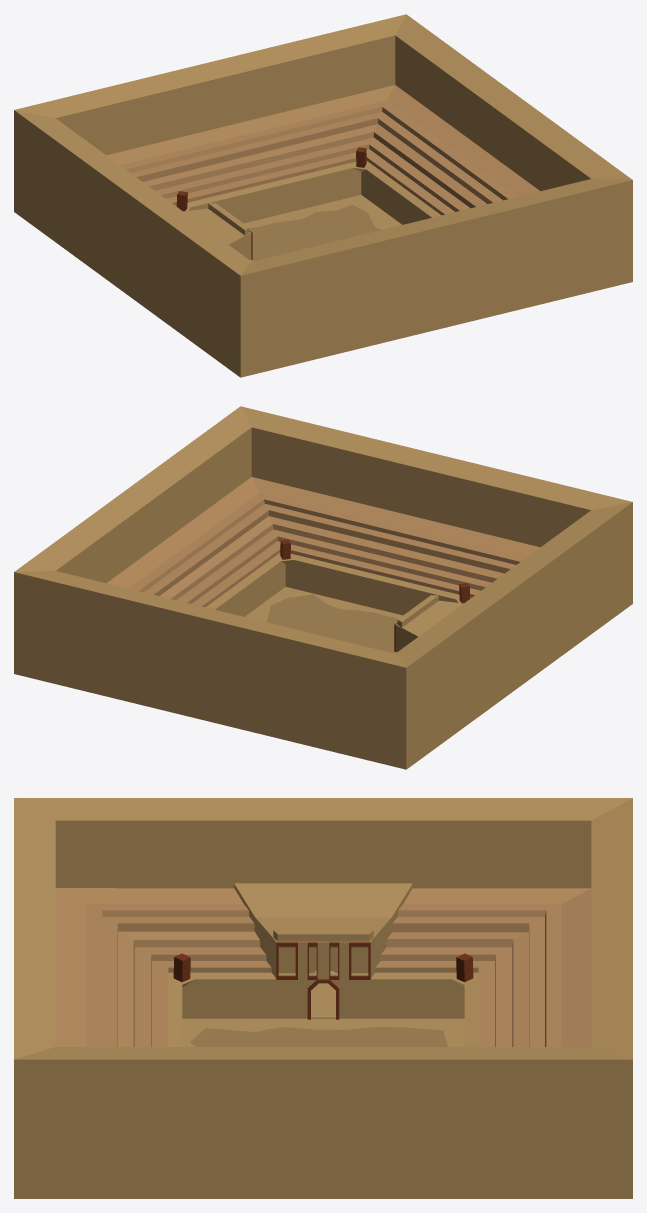
File: arena.fbx
The picture shows the model from 3 angles, top to bottom: view 1: azimuth 30°, elevation 25°; view 2: azimuth 150°, elevation 25°; view 3: azimuth 270°, elevation 25°; orthographic projection. The views are drawn at different scales.
Parts seen in each view (by area): view 1: Arena, Ranks, Ground; view 2: Arena, Ranks, Ground; view 3: Arena, Ranks, Ground.
Part boxes in pixels (x1=…): Arena: x1=14, y1=14, x2=632, y2=377; Ranks: x1=107, y1=85, x2=539, y2=215; Ground: x1=244, y1=195, x2=401, y2=261; Arena: x1=14, y1=406, x2=632, y2=769; Ranks: x1=107, y1=477, x2=539, y2=607; Ground: x1=245, y1=587, x2=402, y2=653; Arena: x1=14, y1=798, x2=632, y2=1198; Ranks: x1=55, y1=888, x2=591, y2=1046; Ground: x1=182, y1=1018, x2=464, y2=1046.
Bounding box in the file's own units: 4387 × 1506 × 4387.
